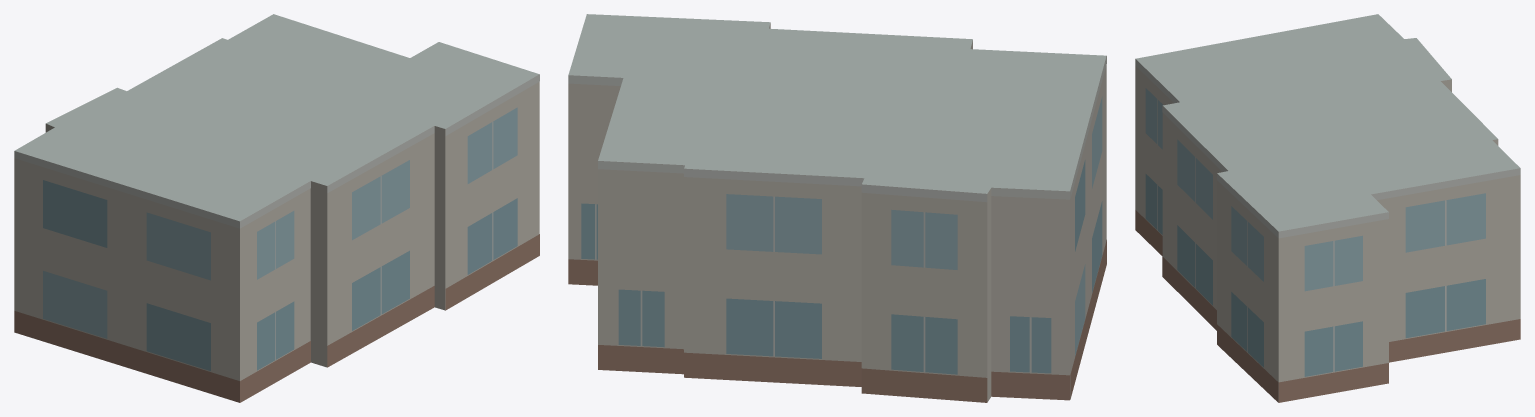
File: survey-upis-32675949.glb
The picture shows the model from 3 angles, left to right: view 1: azimuth 30°, elevation 25°; view 2: azimuth 150°, elevation 25°; view 3: azimuth 270°, elevation 25°; orthographic projection. The views are drawn at different scales.
Parts seen in each view (by area): view 1: survey-upis-32675949.tmp; view 2: survey-upis-32675949.tmp; view 3: survey-upis-32675949.tmp.
Boxes of the visible parts, box(x1,y1,x2,y2) form: survey-upis-32675949.tmp: box(14, 14, 539, 402); survey-upis-32675949.tmp: box(568, 14, 1106, 402); survey-upis-32675949.tmp: box(1135, 14, 1520, 402).
Bounding box in the file's own units: 16.63 × 6.1 × 12.44.
